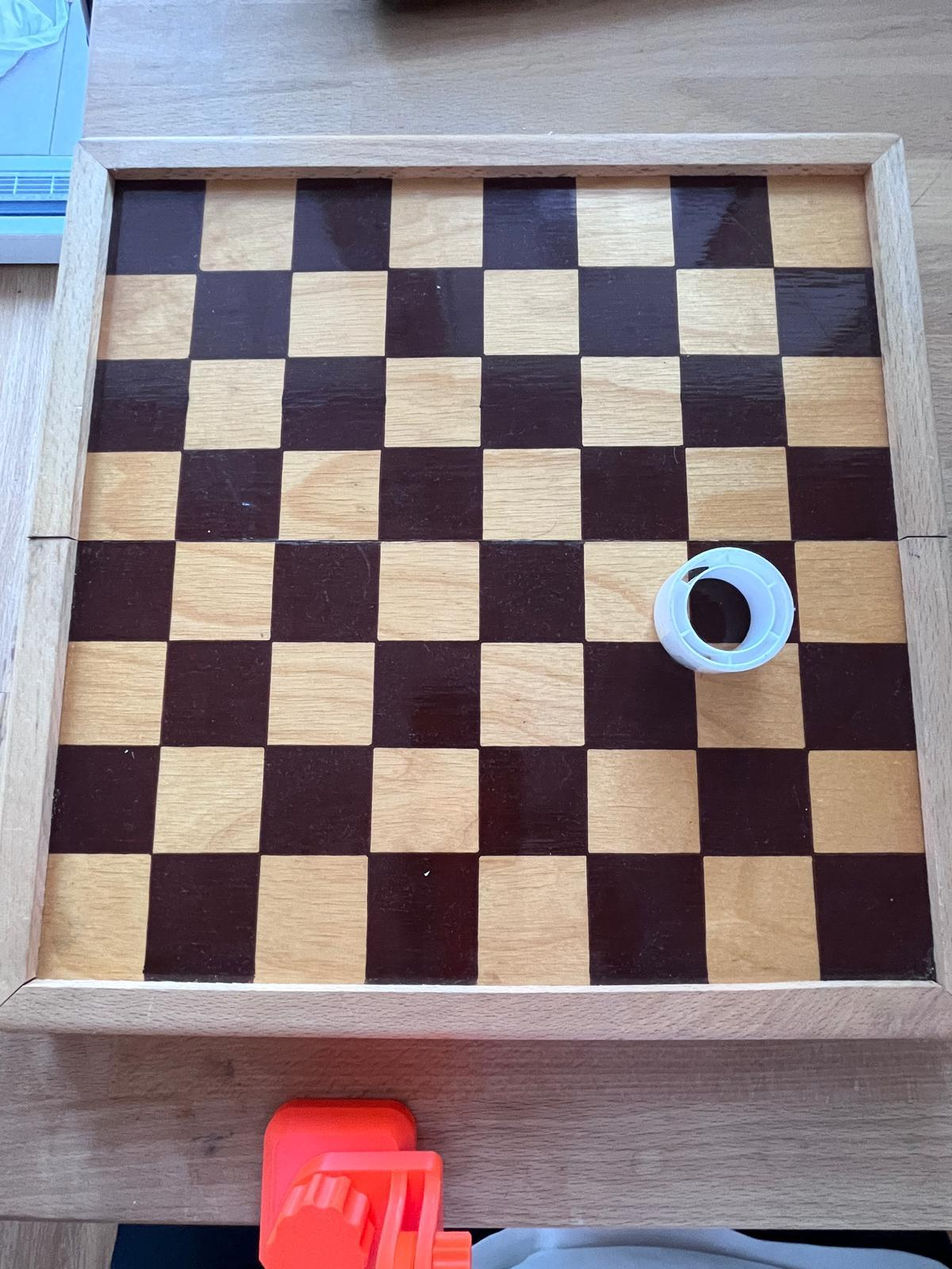tape: (654, 535, 797, 679)
